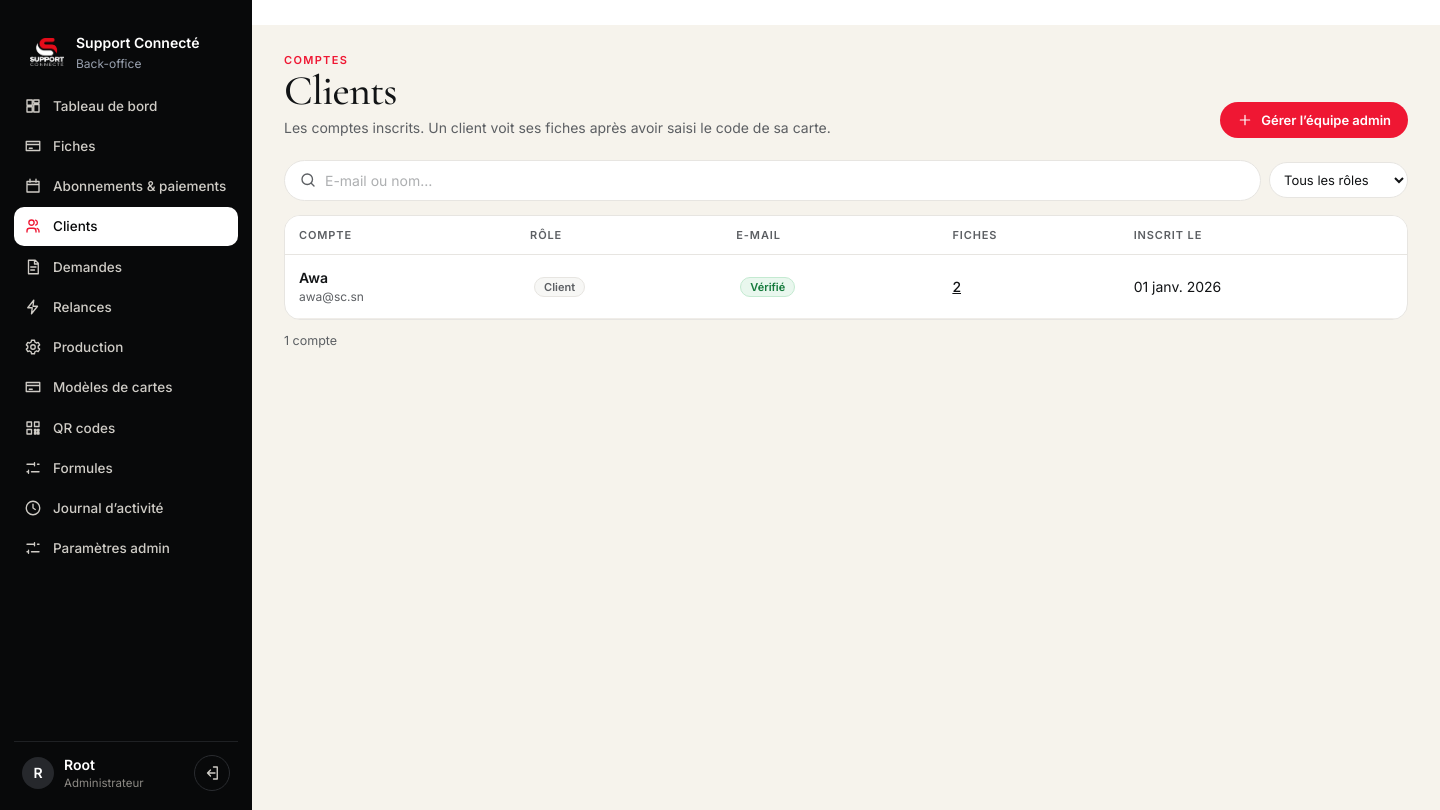
Test: pages du back-office › ouvre la gestion de l’équipe admin depuis la page Clients
The width and height of the screenshot is (1440, 810).
Click the button with class "adm-btn" at (1314, 120), box [1220,102,1408,138]
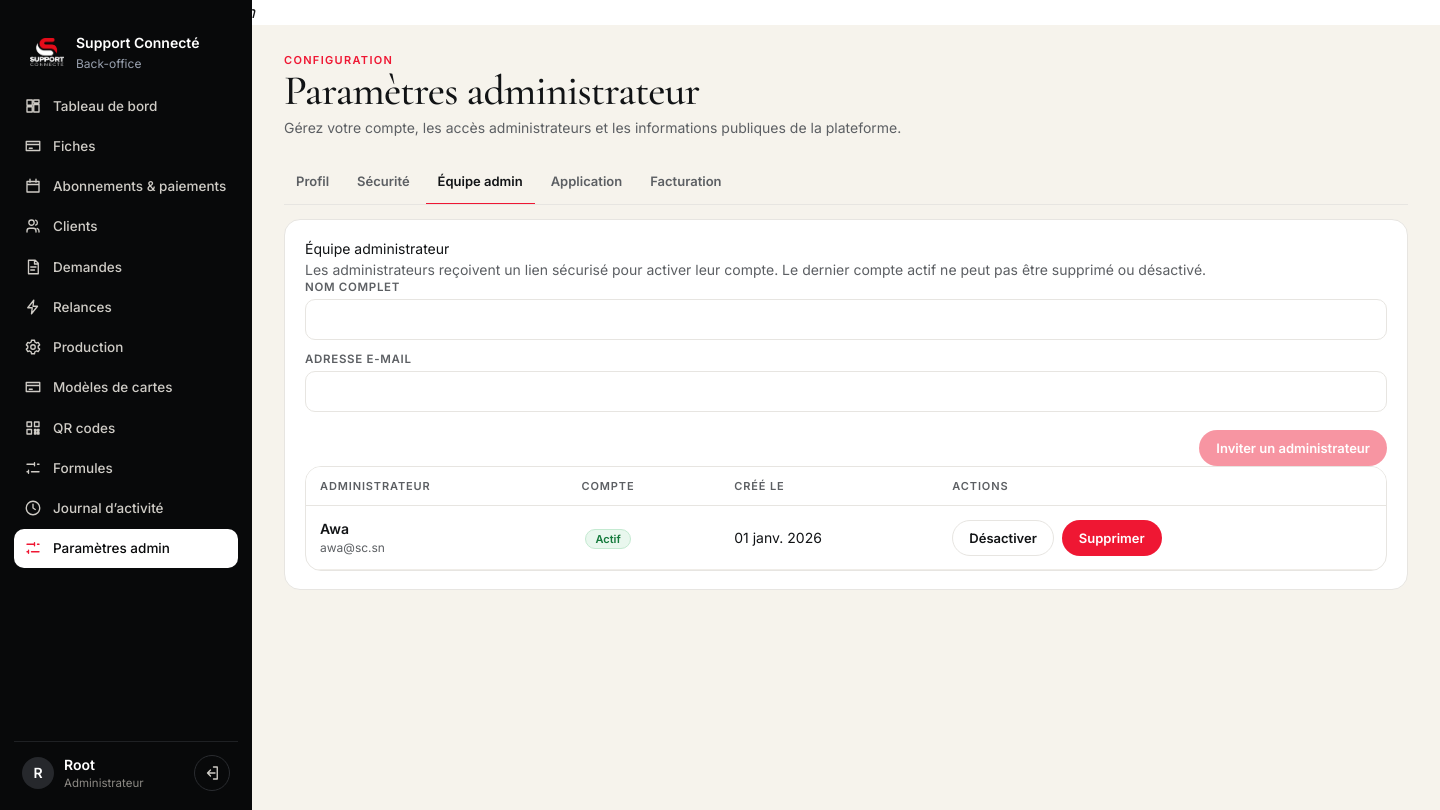
Result: the text with test id "where" reads "/admin/parametres?section=team" at [0,2,255,22]
Result: the text "Équipe administrateur" is shown at [305,240,449,257]
Result: the text "Inviter un administrateur" is shown at [1199,430,1387,466]
